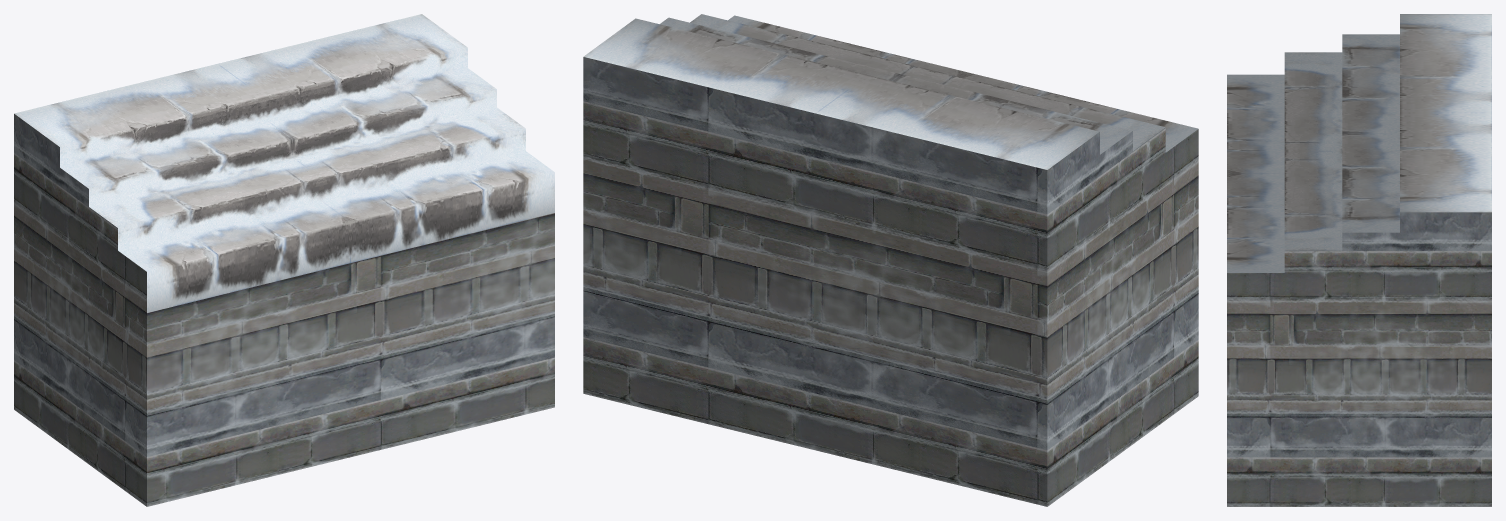
Rendered from jz_taijie_01.FBX.
The picture shows the model from 3 angles, left to right: view 1: azimuth 30°, elevation 25°; view 2: azimuth 150°, elevation 25°; view 3: azimuth 270°, elevation 25°; orthographic projection. The views are drawn at different scales.
Visible parts, largest first — view 1: jz_taijie_01; view 2: jz_taijie_01; view 3: jz_taijie_01.
Part boxes in pixels (box(x1,y1,x2,y2)): jz_taijie_01: box(14, 14, 554, 506); jz_taijie_01: box(583, 14, 1198, 506); jz_taijie_01: box(1227, 14, 1491, 506).
Size of the model in its own units: 272 by 189 by 154.
